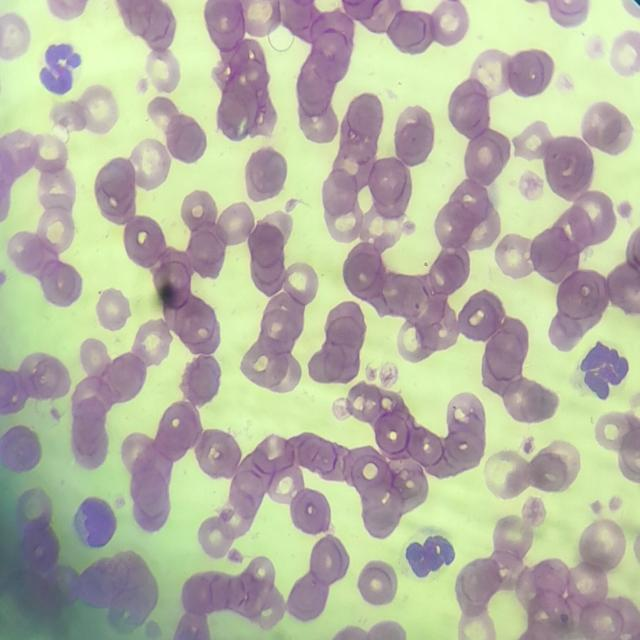Neutrofilo: (30, 32, 89, 101), (575, 336, 633, 400), (396, 522, 459, 577)
